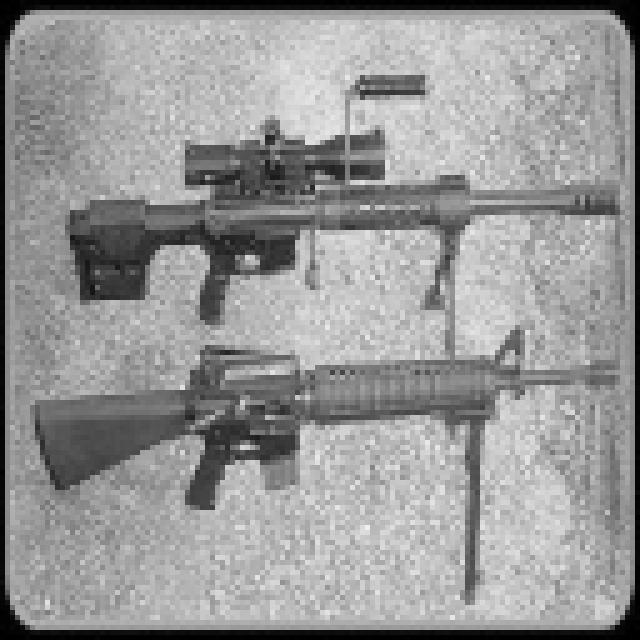Rifle: (0, 296, 640, 624), (0, 48, 640, 345)
